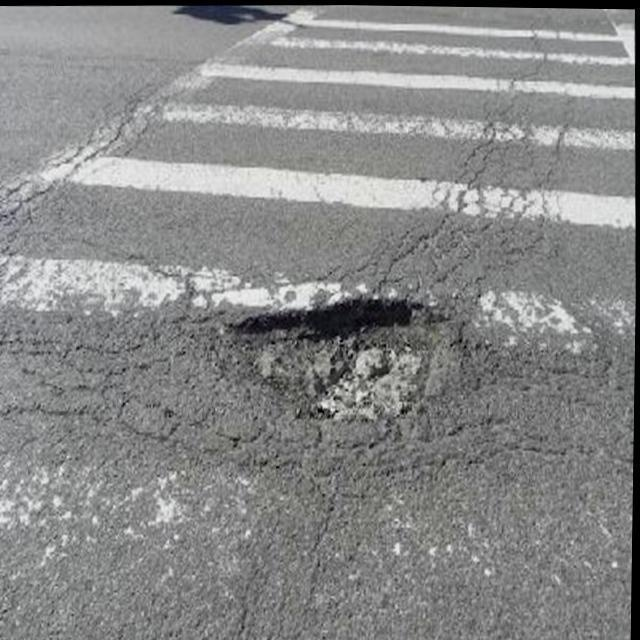pothole: (231, 274, 464, 452)
